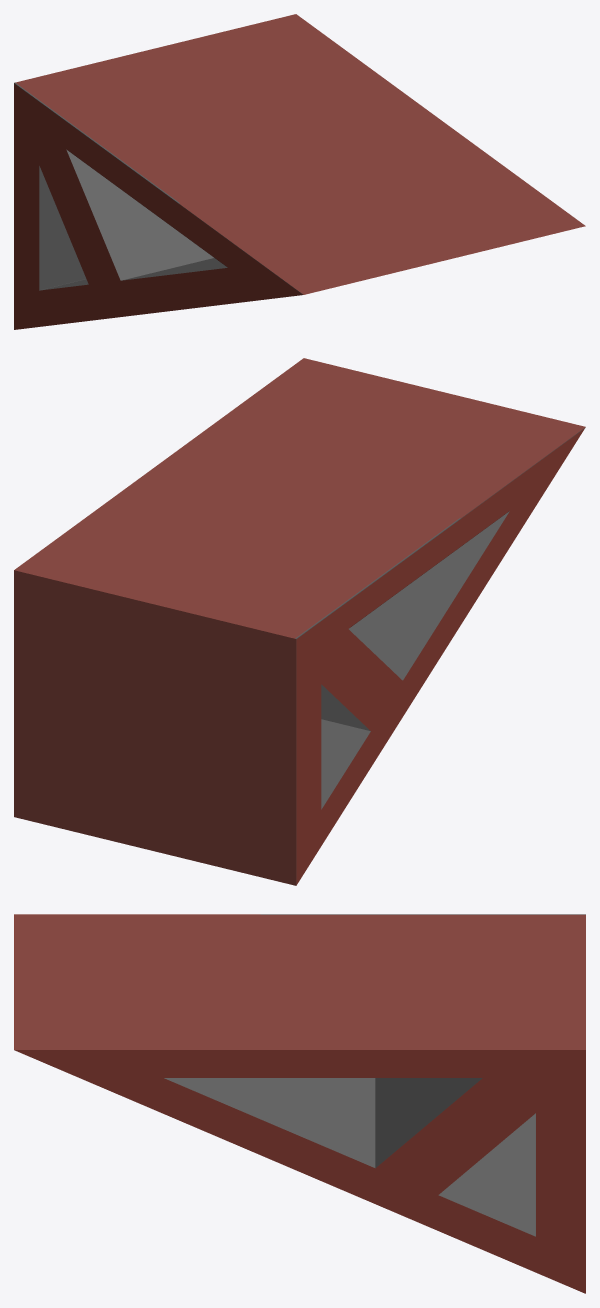
Rendered from Corner platform.fbx.
3 views of the same model, one above another, from view 1: azimuth 30°, elevation 25°; view 2: azimuth 150°, elevation 25°; view 3: azimuth 270°, elevation 25° (orthographic).
Visible parts, largest first — view 1: Corner Support; view 2: Corner Support; view 3: Corner Support.
Part boxes in pixels (left/top/right/bottom): Corner Support: left=14, top=14, right=585, bottom=329; Corner Support: left=14, top=358, right=585, bottom=885; Corner Support: left=14, top=914, right=585, bottom=1293.
Bounding box in the file's own units: 0.5 × 0.418 × 0.8894.
Materials: 1 (1 with a texture image).
